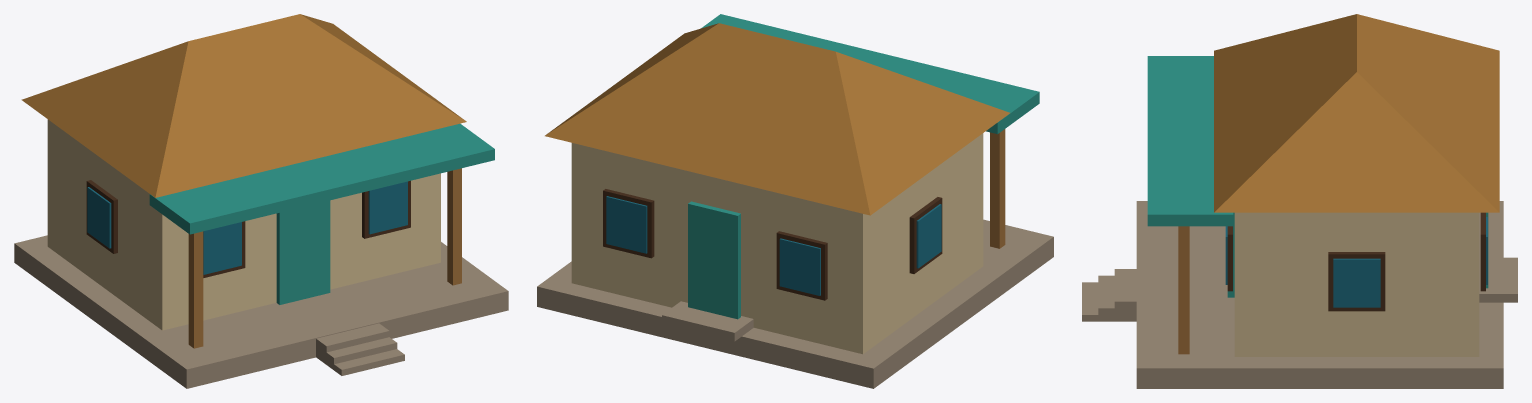
Rendered from Tropical_BeachBungalow_Simple.glb.
3 renders of one model, left to right at view 1: azimuth 30°, elevation 25°; view 2: azimuth 150°, elevation 25°; view 3: azimuth 270°, elevation 25°, orthographic. The views are drawn at different scales.
Visible parts, largest first — view 1: Tropical_BeachBungalow_Simple; view 2: Tropical_BeachBungalow_Simple; view 3: Tropical_BeachBungalow_Simple.
Part boxes in pixels (left/top/right/bottom): Tropical_BeachBungalow_Simple: left=14, top=14, right=508, bottom=388; Tropical_BeachBungalow_Simple: left=537, top=14, right=1053, bottom=388; Tropical_BeachBungalow_Simple: left=1082, top=14, right=1517, bottom=388.
Size of the model in its own units: 4.85 by 3.55 by 5.35.
